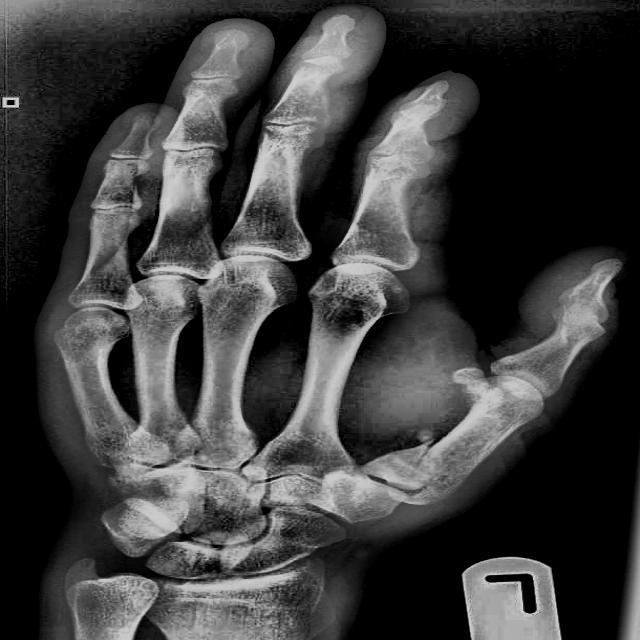fracture: (357, 440, 444, 500)
